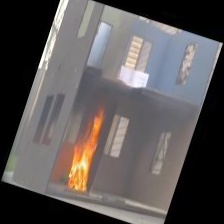fire: (54, 98, 116, 196)
